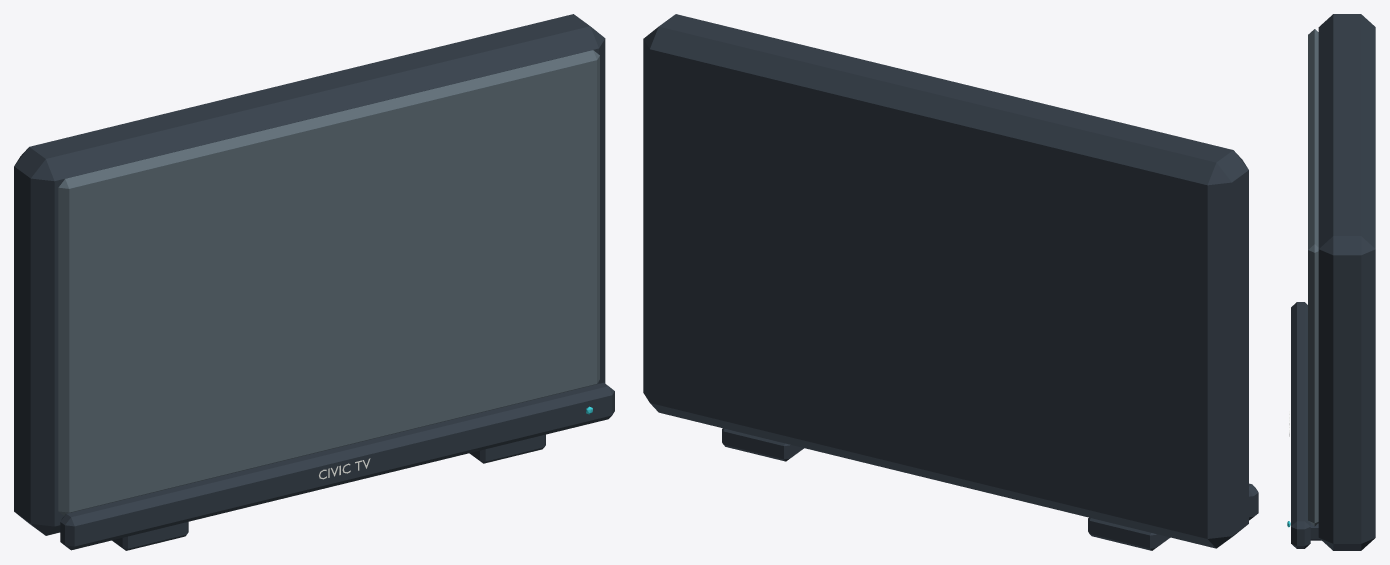
The model's file is TV_Frame.fbx.
3 views of the same model, side by side, from view 1: azimuth 30°, elevation 25°; view 2: azimuth 150°, elevation 25°; view 3: azimuth 270°, elevation 25° (orthographic). The views are drawn at different scales.
Visible parts, largest first — view 1: Inner Screen Border.012, TV Back Housing.012, Lower Bezel.012, TV Foot.024, TV Foot.025; view 2: TV Back Housing.012, TV Foot.024, TV Foot.025; view 3: TV Back Housing.012, Inner Screen Border.012, Lower Bezel.012, TV Foot.025.
Part boxes in pixels (box(x1,y1,x2,y2)): Inner Screen Border.012: box(58, 50, 599, 515); TV Back Housing.012: box(14, 14, 605, 535); Lower Bezel.012: box(60, 382, 614, 550); TV Foot.024: box(112, 522, 188, 550); TV Foot.025: box(469, 434, 545, 463); TV Back Housing.012: box(643, 14, 1248, 548); TV Foot.024: box(1088, 517, 1170, 550); TV Foot.025: box(722, 428, 803, 461); TV Back Housing.012: box(1318, 14, 1375, 550); Inner Screen Border.012: box(1308, 29, 1318, 526); Lower Bezel.012: box(1291, 302, 1310, 548); TV Foot.025: box(1310, 523, 1321, 540).
Size of the model in its own units: 418 by 275 by 66.78.
